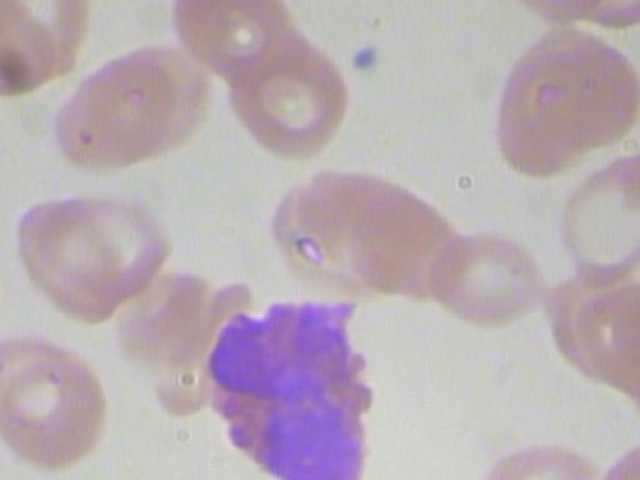Platelets: (341, 37, 392, 75)
RBC: (484, 17, 640, 191), (219, 32, 356, 158), (56, 51, 184, 176), (30, 194, 176, 303), (0, 354, 113, 479), (552, 147, 640, 291), (167, 0, 301, 92), (435, 229, 545, 328), (0, 0, 63, 104), (589, 439, 640, 480), (454, 462, 558, 480), (0, 210, 8, 338)
WBC: (169, 288, 408, 480)
